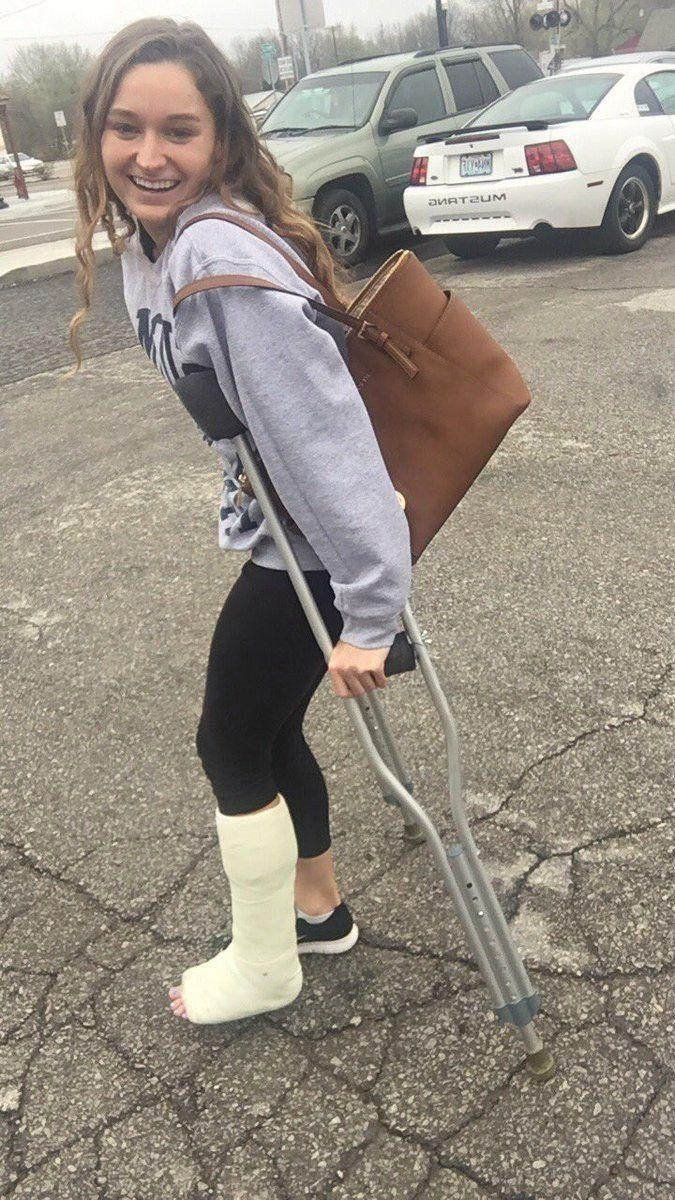crutches: (65, 17, 558, 1082)
